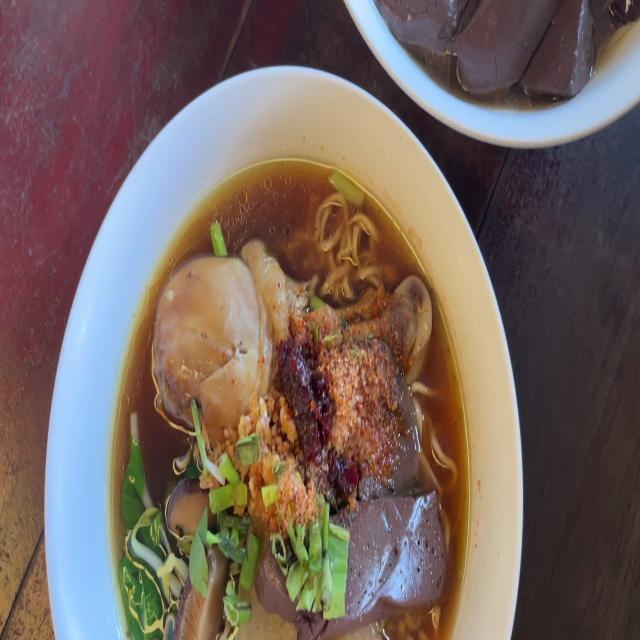boiled_chicken_blood_jelly: (378, 0, 596, 99), (258, 504, 438, 612), (377, 345, 419, 480)
chicken_drumstick: (146, 241, 433, 415)
noodle: (129, 220, 443, 640)
